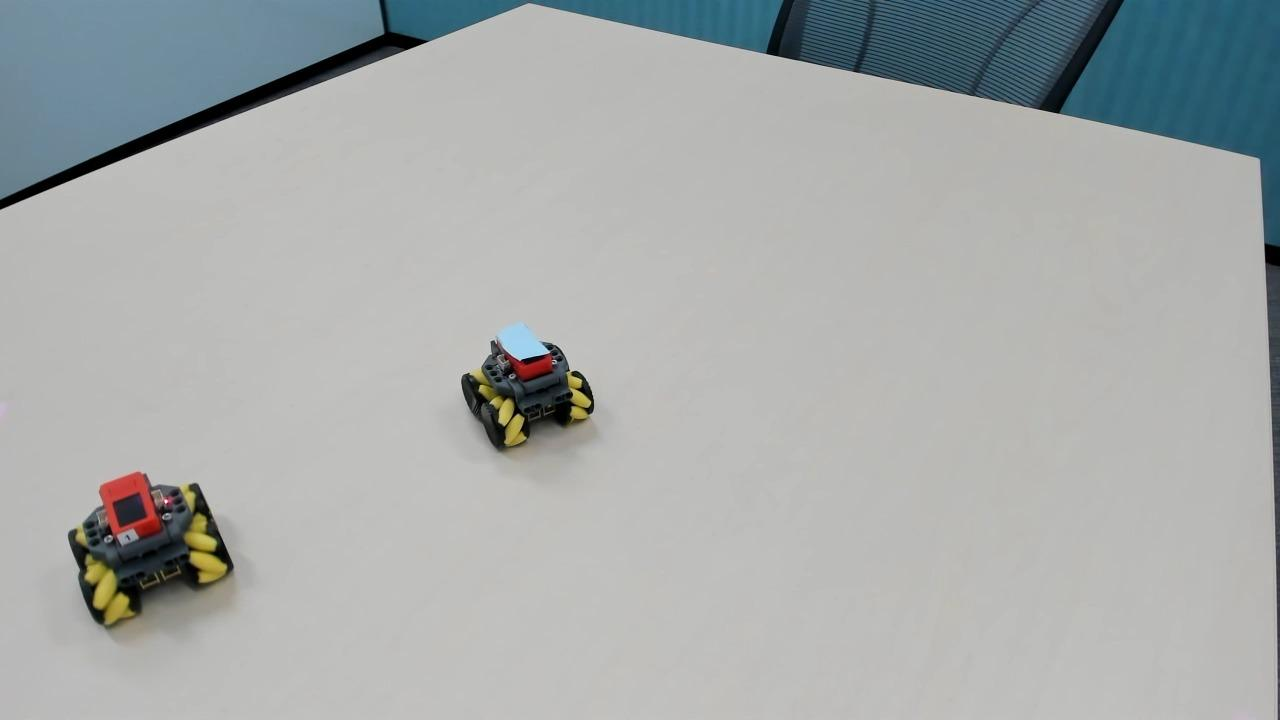B-Robot: (450, 309, 615, 460)
R-Robot: (41, 459, 243, 640)
